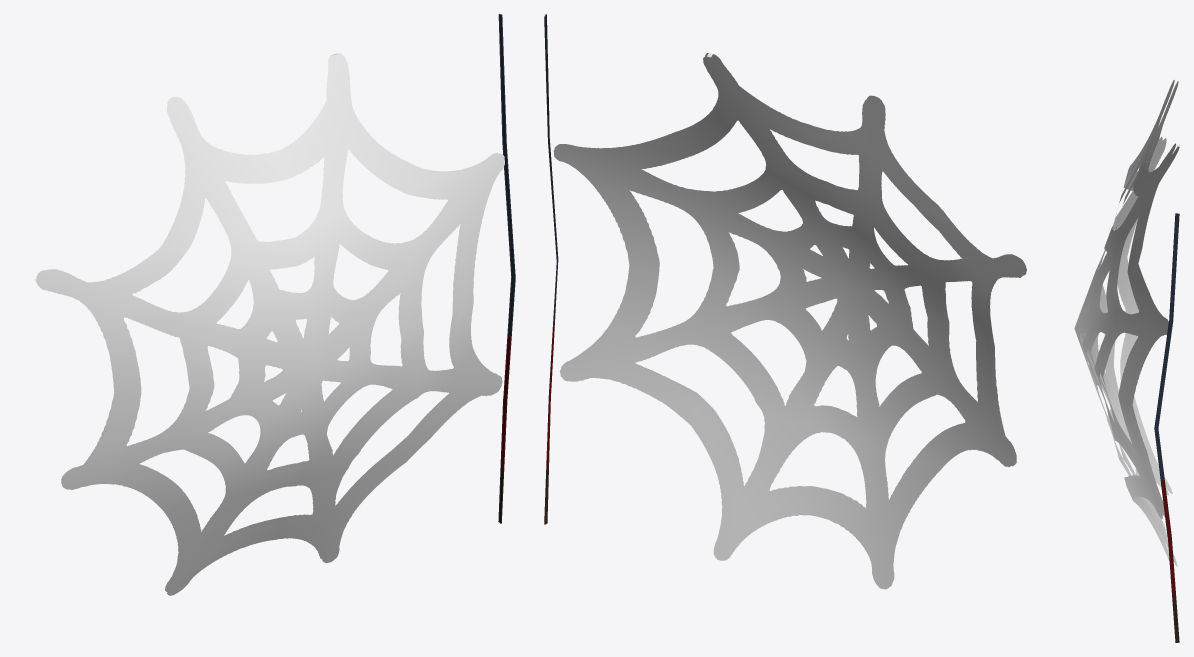
The model's file is Spider_web_2.FBX.
The picture shows the model from 3 angles, left to right: view 1: azimuth 30°, elevation 25°; view 2: azimuth 150°, elevation 25°; view 3: azimuth 270°, elevation 25°; orthographic projection. The views are drawn at different scales.
Parts seen in each view (by area): view 1: Spider_web; view 2: Spider_web; view 3: Spider_web.
Part boxes in pixels (<box>): Spider_web: <box>35,14,515,595</box>; Spider_web: <box>544,14,1026,589</box>; Spider_web: <box>1074,80,1179,642</box>.
Size of the model in its own units: 0.7114 by 0.712 by 0.1572.
